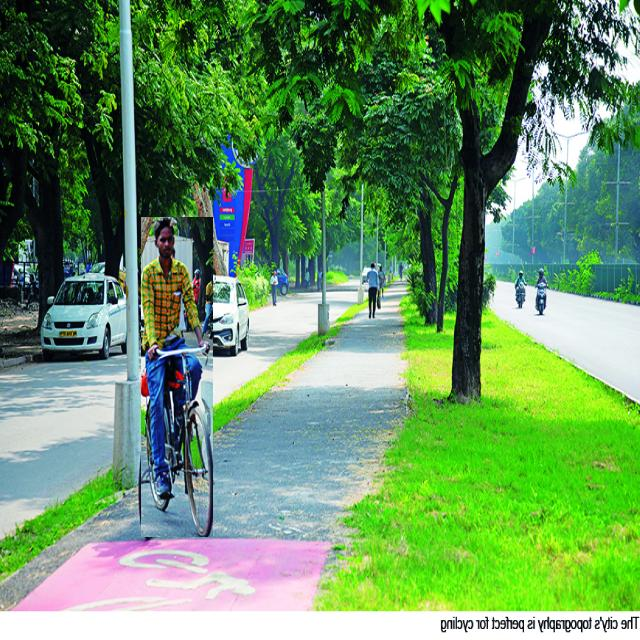bicycle: (141, 218, 212, 537)
car: (41, 274, 128, 361), (209, 275, 250, 355)
